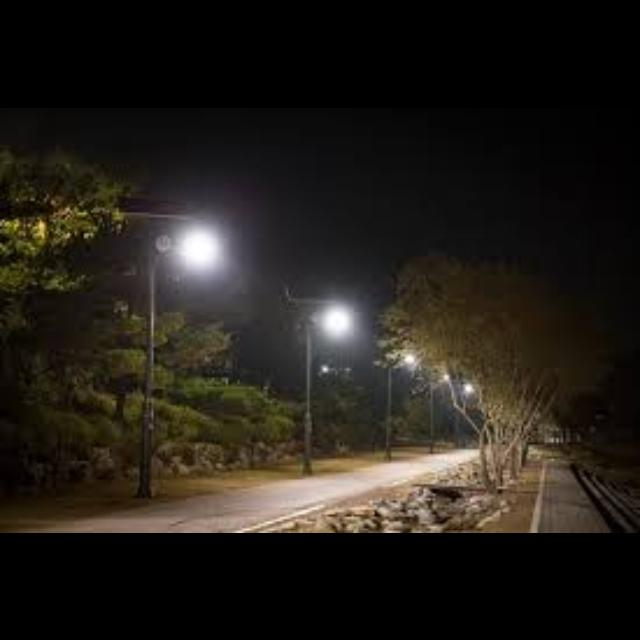Street-Lamp: (111, 189, 226, 509), (278, 284, 354, 466)
